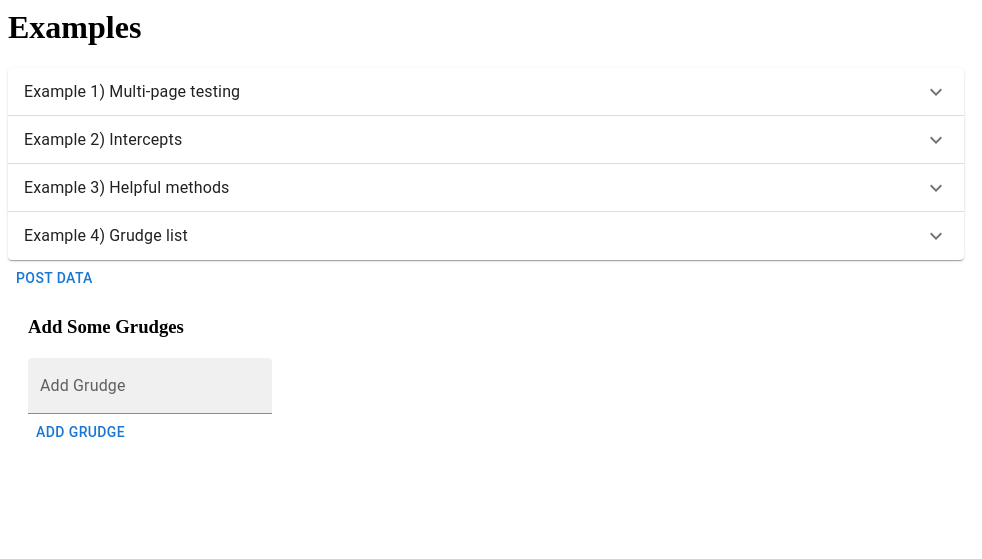
Various examples › grudges
Expected: the heading "Add Some Grudges" is shown, [28, 316, 184, 337]
Type "some grudge" into the field labelled "Add Grudge" at (150, 386), box [28, 358, 272, 414]
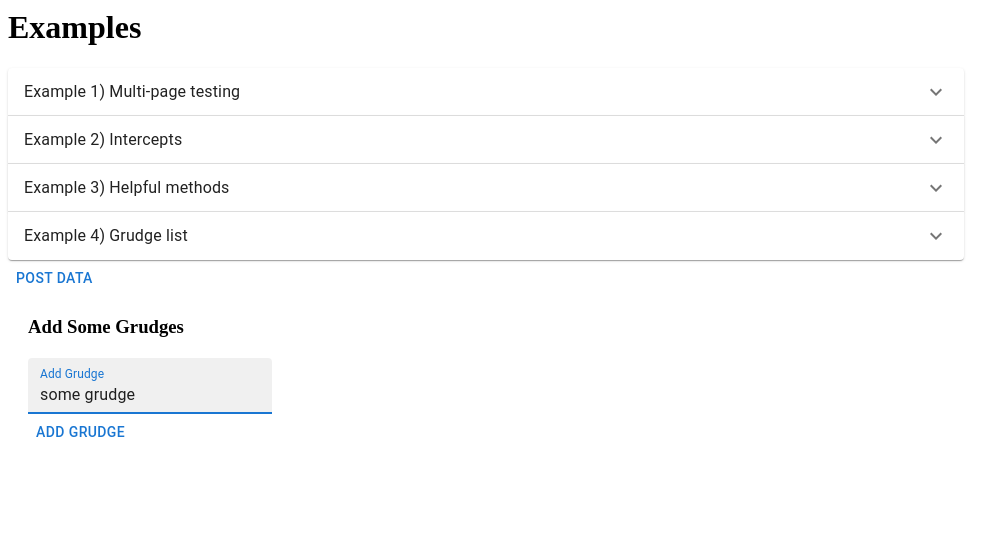
Click the button with test id "add-grudge-button" at (81, 433), box [28, 414, 133, 451]
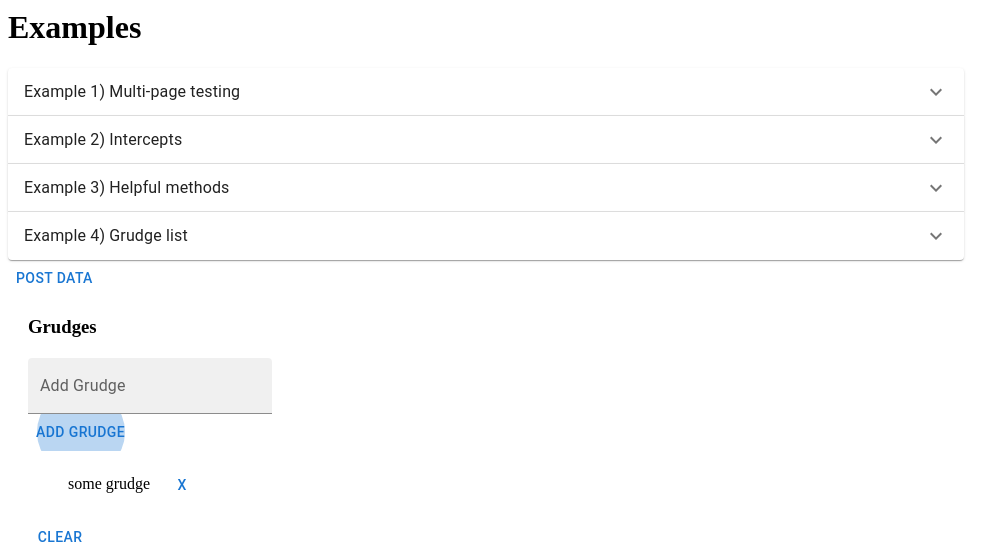
Now the number of list items is 1, box [68, 467, 214, 504]
